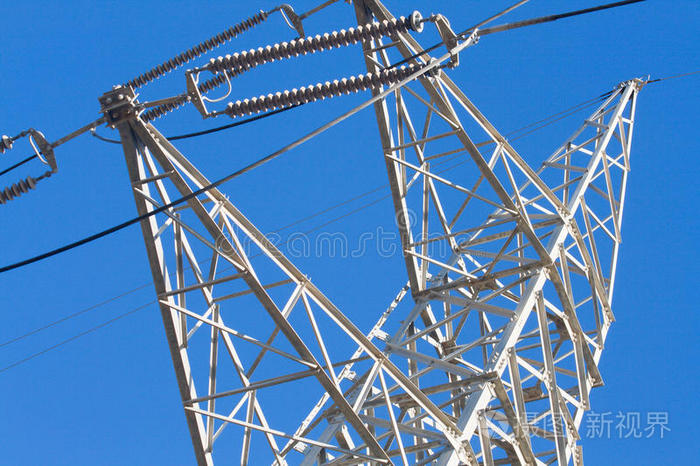insulator: (223, 55, 442, 124), (206, 13, 422, 72), (123, 8, 266, 90), (141, 66, 251, 122), (1, 172, 41, 210)
